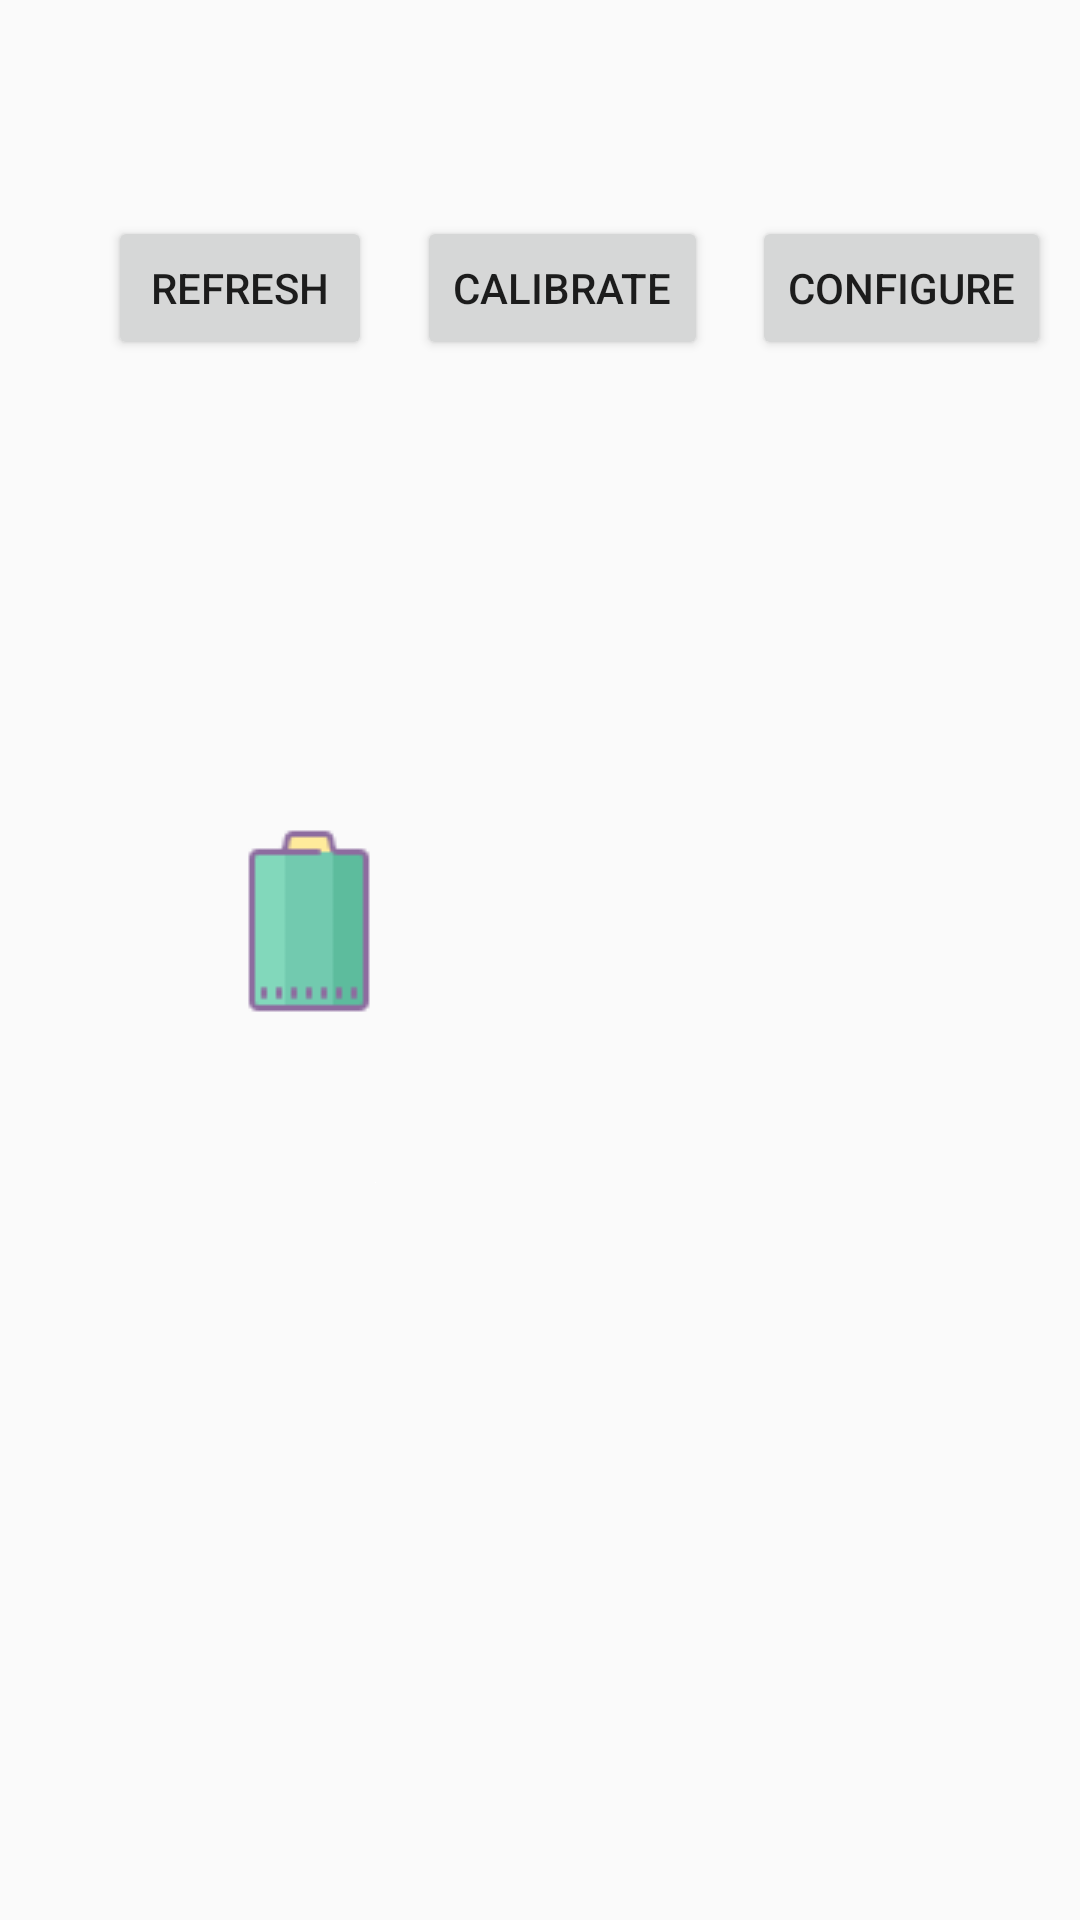

Screen size 1080 x 1920. Icon name, then its center in pixels as [x,y]:
batt: [309,921]
